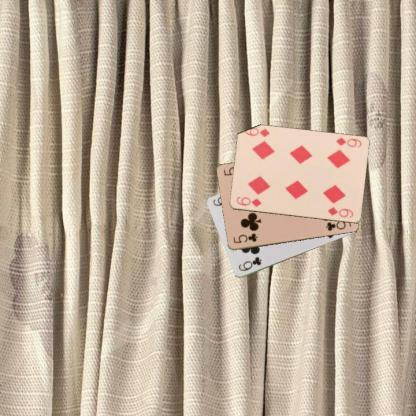5c: (230, 230, 259, 245)
6c: (236, 254, 263, 272)
6d: (333, 134, 364, 148), (233, 194, 262, 208)
